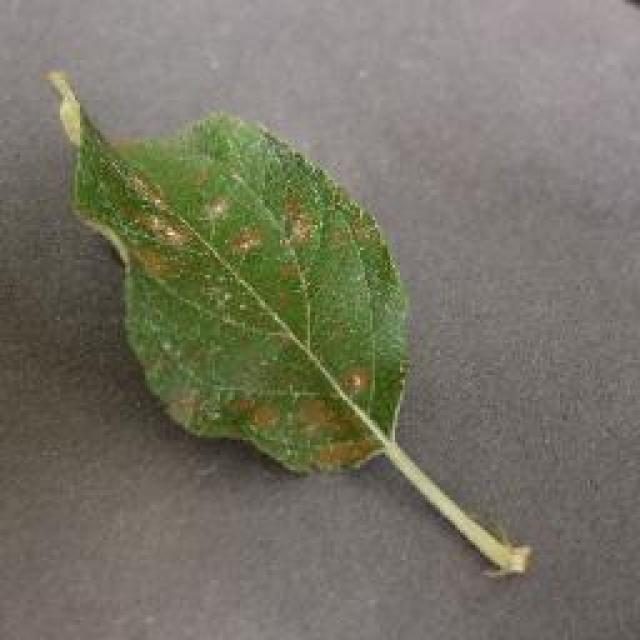apple scab disease: (40, 65, 532, 577)
